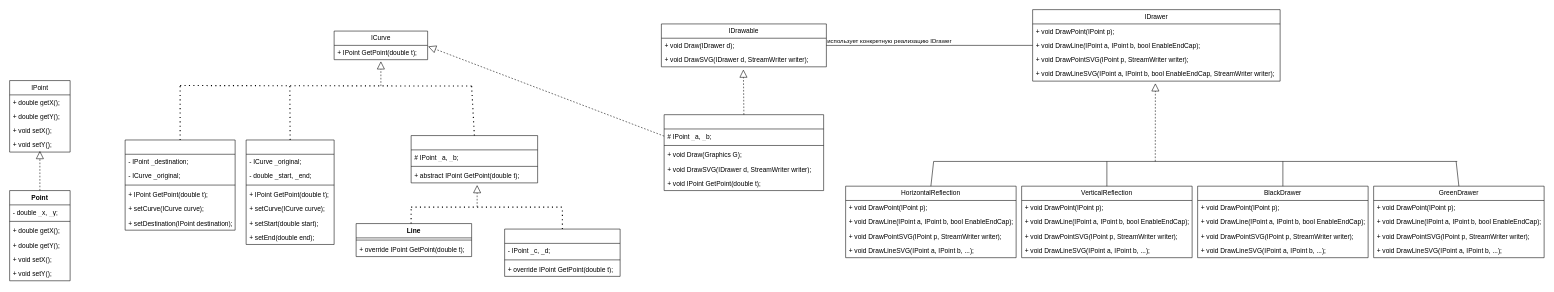
Image size: 1554x292. Some labels were removed from this diagram. The shapes that lost their labels are listed below. From the top down, each one's box as (x1, y1, x2, y2) in pixels, then its label:
(411, 135, 538, 183): ACurve
(664, 114, 824, 191): AVisualCurve
(125, 139, 235, 230): MoveTo
(246, 139, 334, 244): Fragment
(504, 229, 620, 276): Bezier
